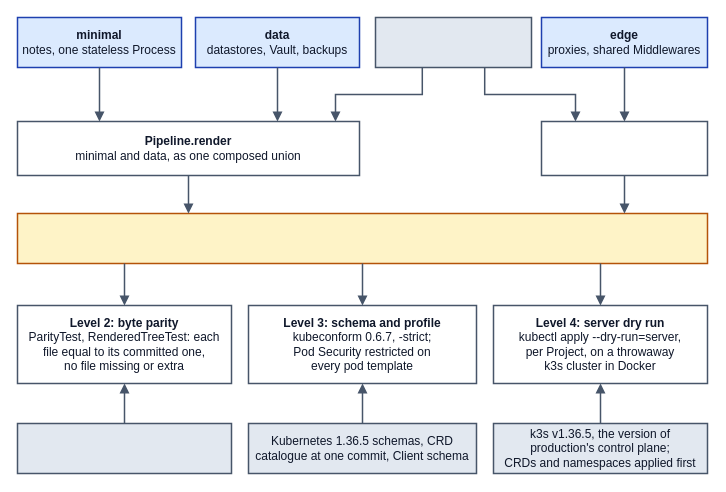
The diagram is 726 pixels wide and 492 high, and some of its shapes have lost their labels. The shapes that lost their labels are listed below. From the top down, each one's centre as x and y in pixels, then its label:
At (453,42): "Platform Intent and the pinned inputs".
At (624,148): "Pipeline.render edge".
At (362,238): "rendered trees one file per Deliverable, at the path the resolution planned".
At (124,448): "committed rendered/ trees of minimal, data and edge".
